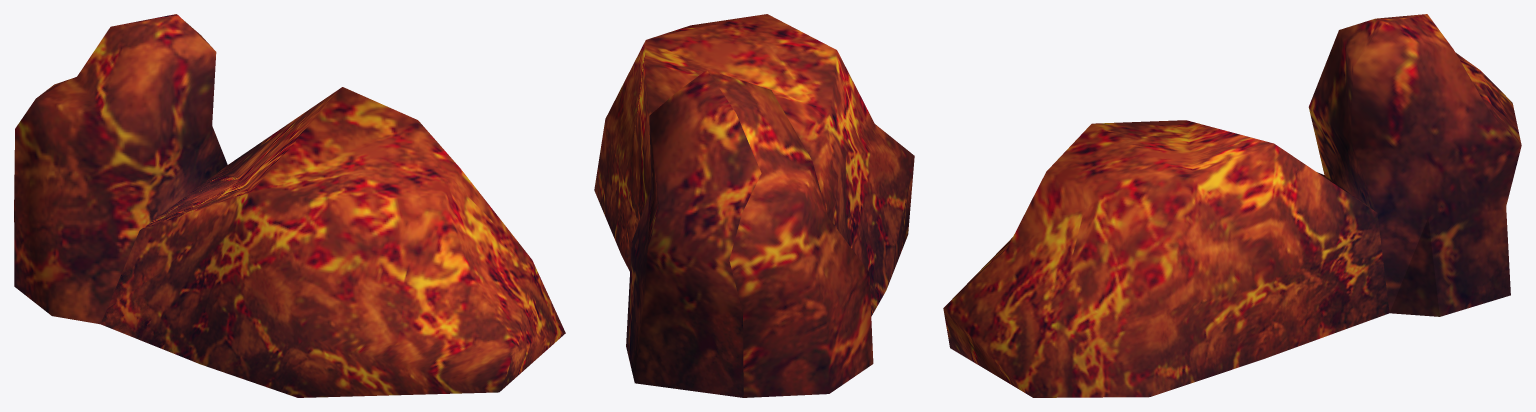
File: Scene_yuanshitou_005.FBX
3 renders of one model, left to right at view 1: azimuth 30°, elevation 25°; view 2: azimuth 150°, elevation 25°; view 3: azimuth 270°, elevation 25°, orthographic. The views are drawn at different scales.
Visible parts, largest first — view 1: Scene_yuanshitou_005; view 2: Scene_yuanshitou_005; view 3: Scene_yuanshitou_005.
Part boxes in pixels (x1=…): Scene_yuanshitou_005: x1=14, y1=14, x2=565, y2=397; Scene_yuanshitou_005: x1=594, y1=14, x2=914, y2=397; Scene_yuanshitou_005: x1=943, y1=14, x2=1521, y2=397.
Bounding box in the file's own units: 28.48 × 19.6 × 37.48.
